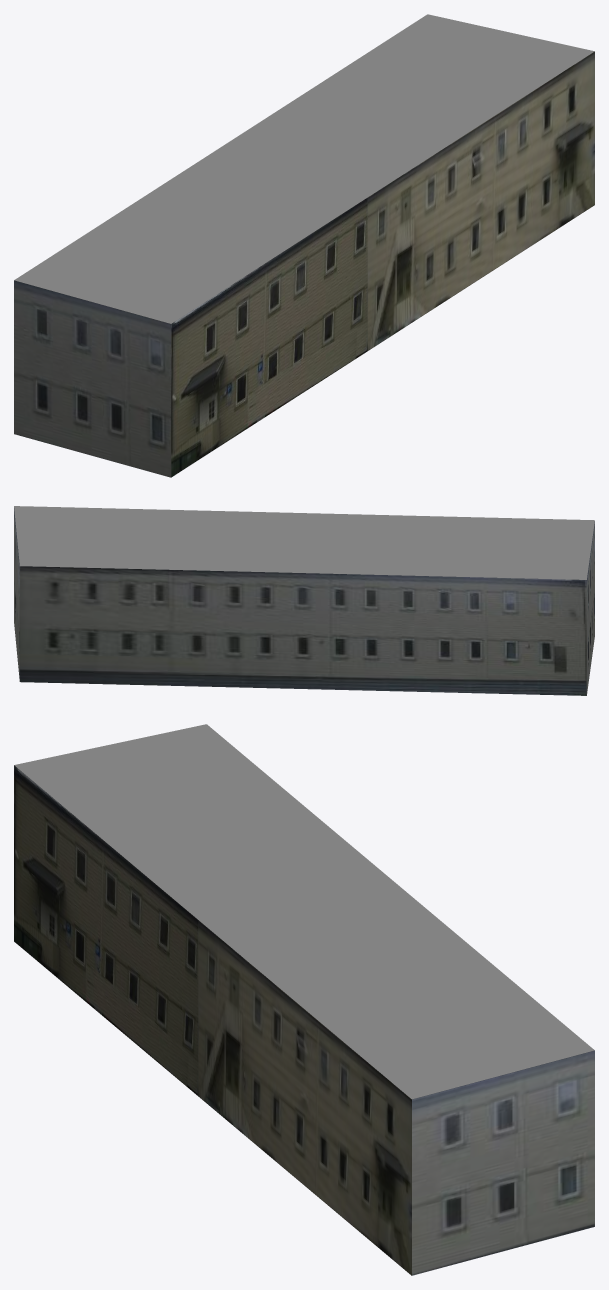
Rendered from VM-brakke.dae.
3 renders of one model, top to bottom at view 1: azimuth 30°, elevation 25°; view 2: azimuth 150°, elevation 25°; view 3: azimuth 270°, elevation 25°, orthographic. The views are drawn at different scales.
Parts seen in each view (by area): view 1: SketchUp (×4); view 2: SketchUp (×2); view 3: SketchUp (×4).
Boxes of the visible parts, x1,y1,x2,y2 form: SketchUp (×4): (14, 14, 594, 477); SketchUp (×2): (14, 506, 594, 695); SketchUp (×4): (14, 724, 594, 1275).
Bounding box in the file's own units: 1634 × 1069 × 358.
Materials: 16 (6 with a texture image).
